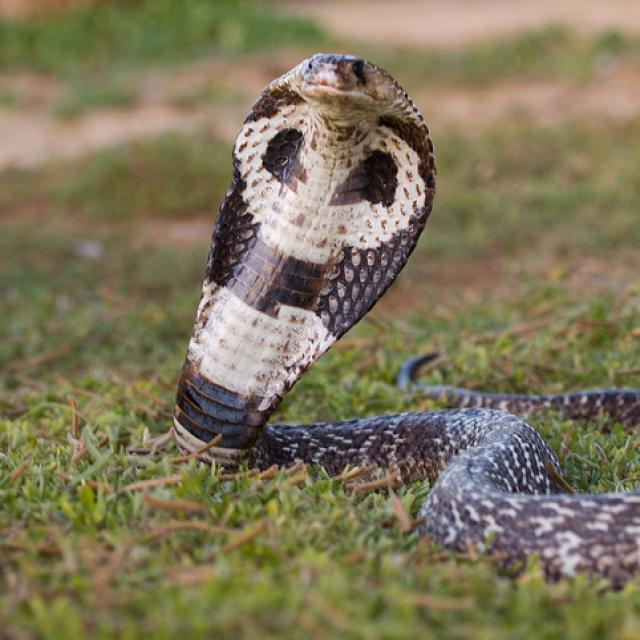Snake: (166, 51, 639, 590)
